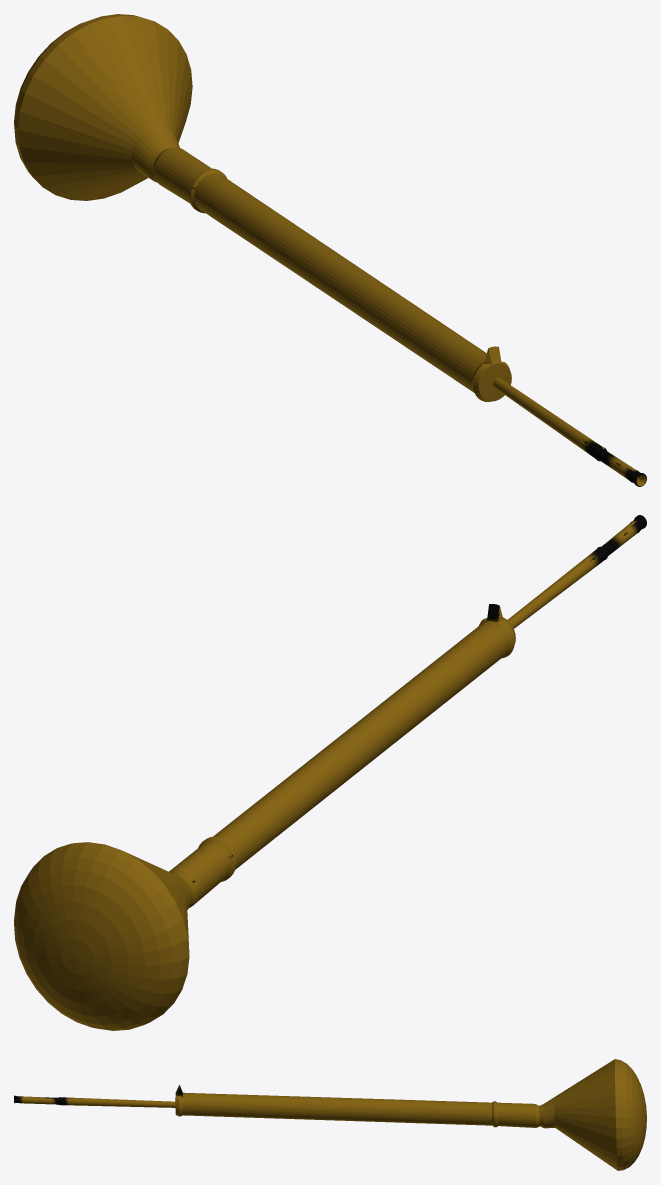
The model's file is juu.obj.
3 renders of one model, top to bottom at view 1: azimuth 30°, elevation 25°; view 2: azimuth 150°, elevation 25°; view 3: azimuth 270°, elevation 25°, orthographic. The views are drawn at different scales.
Visible parts, largest first — view 1: Cube; view 2: Cube; view 3: Cube.
Boxes of the visible parts, x1,y1,x2,y2 form: Cube: [14, 14, 646, 486]; Cube: [14, 515, 646, 1030]; Cube: [14, 1059, 646, 1170].
Size of the model in its own units: 1.37 by 1.37 by 7.75.
Materials: 1 (1 with a texture image).
